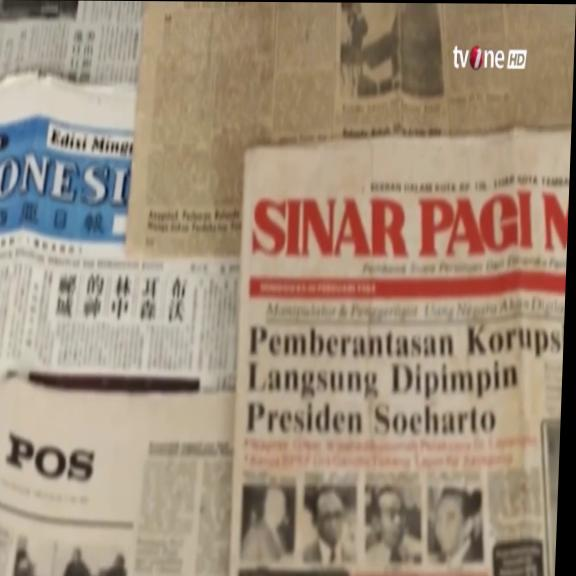Kertas: (229, 127, 569, 575), (0, 60, 247, 574), (131, 1, 566, 248)
